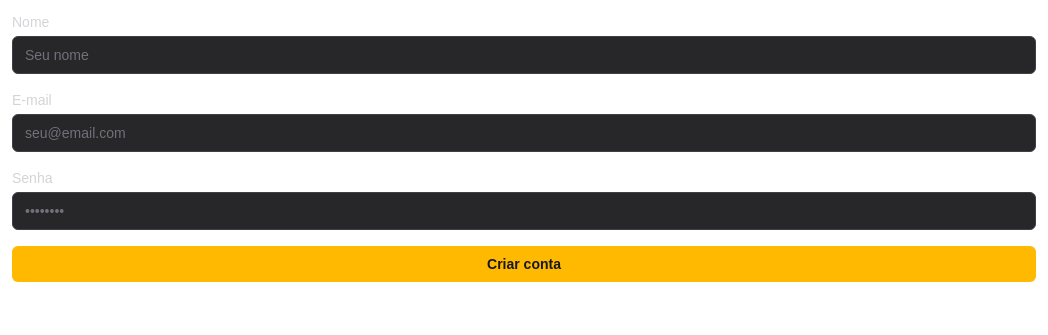
Test case: RegisterForm — erros de validação (400) › shows "O campo email é obrigatório" when backend returns 400
The image size is (1048, 335).
Type "Caio" into the field labelled "Nome" at [524, 55], box [12,36,1036,74]
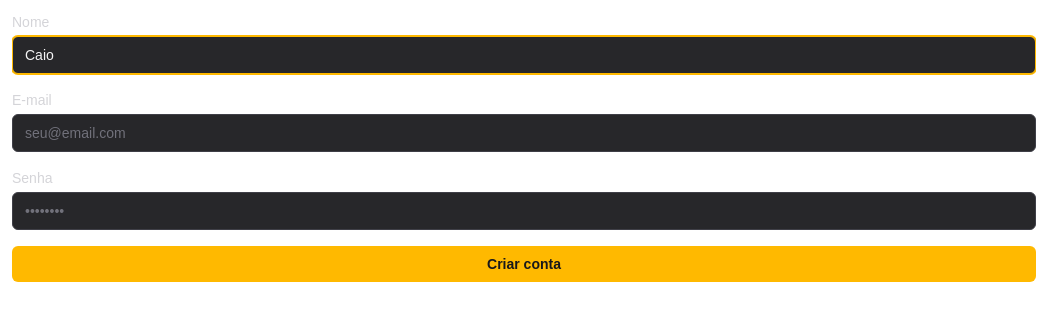
Type "secret123" into the password field labelled "Senha" at [524, 211], box [12,192,1036,230]
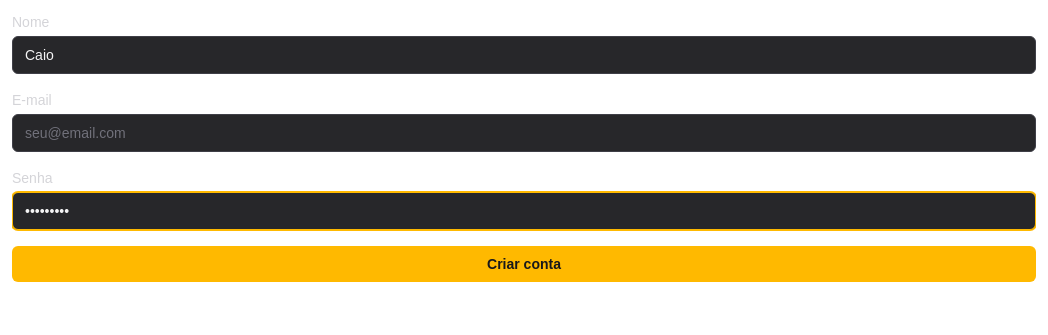
Click the button "Criar conta" at [524, 264], box [12,246,1036,282]
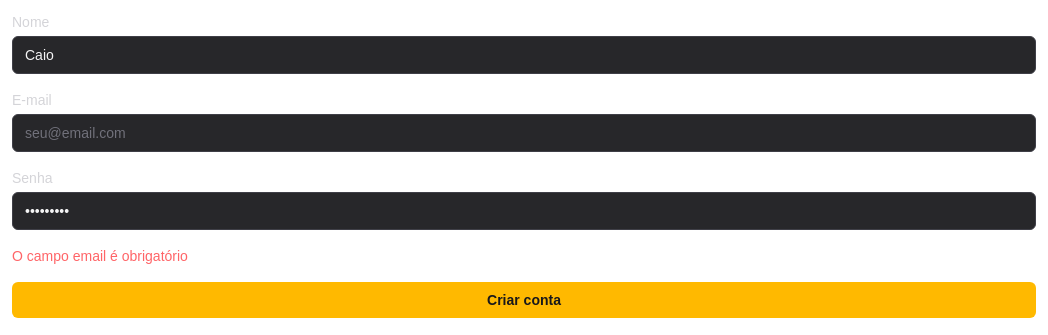
Now the message reads "O campo email é obrigatório", box [12,248,188,264]
